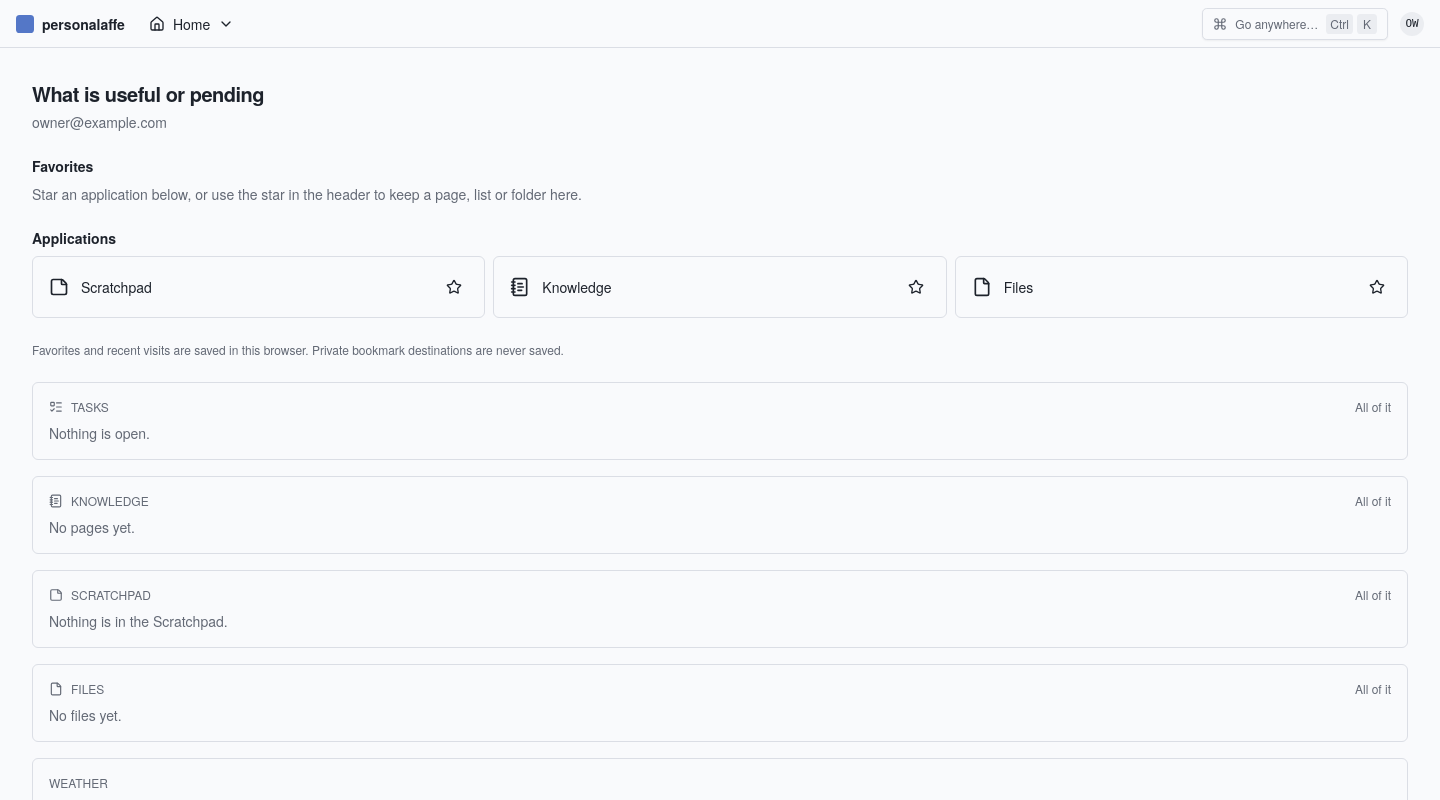
Test: the frame › leaves a switched-off application out of the navigation
Click the button with aria-label "Switch application:" at (192, 24), box [137, 2, 246, 46]
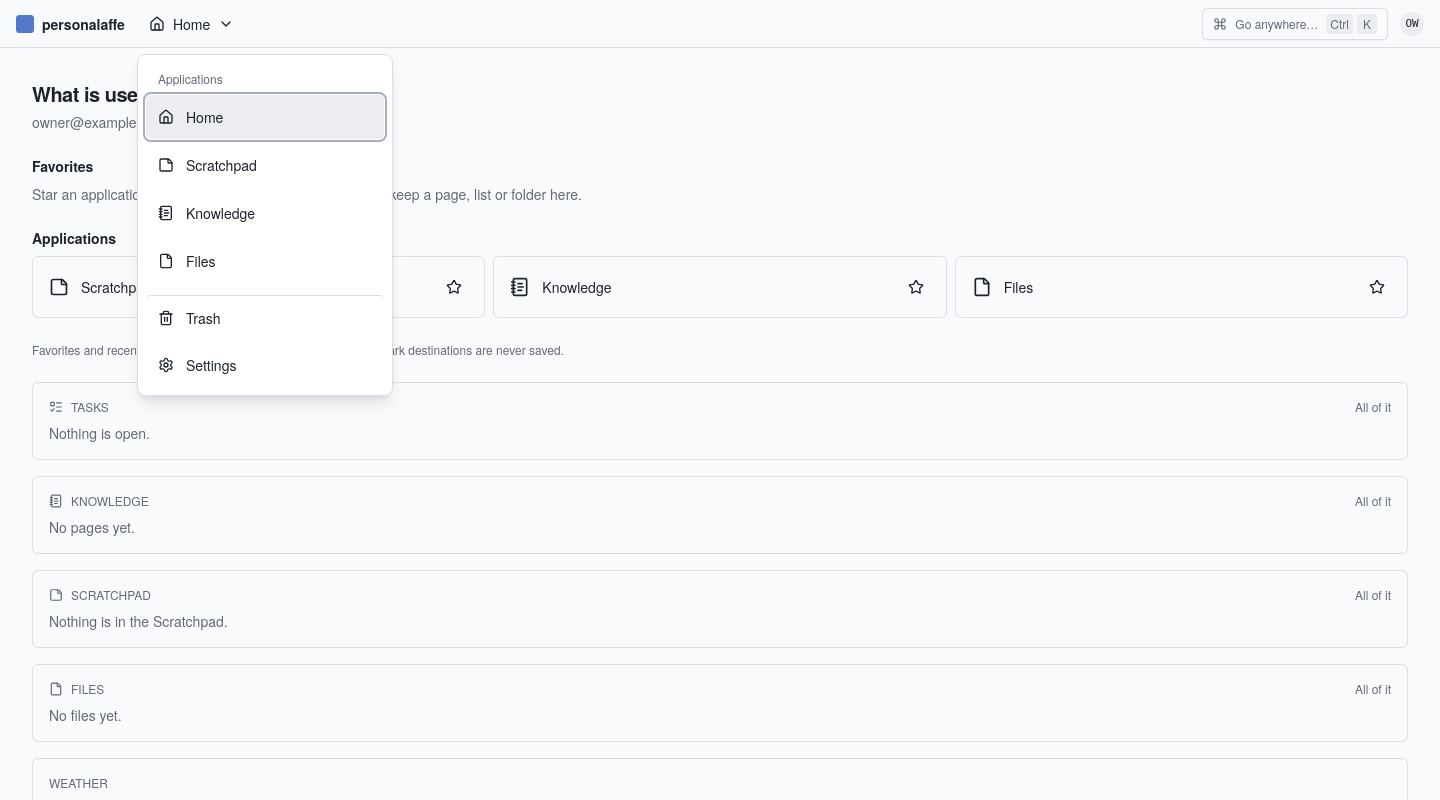
Now the 1st link "Knowledge" is shown, box [158, 203, 255, 223]
